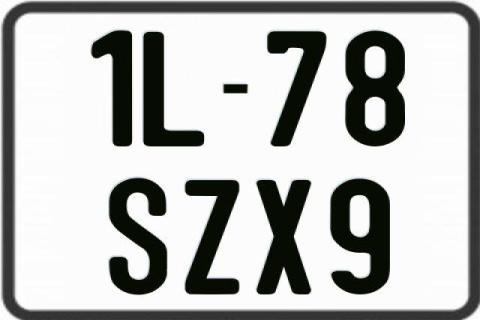0: (329, 176, 391, 295), (342, 29, 403, 147), (265, 30, 324, 146), (88, 30, 131, 148)
L: (143, 31, 209, 151)
S: (108, 178, 171, 296)
X: (256, 180, 314, 298)
Z: (182, 180, 242, 296)
